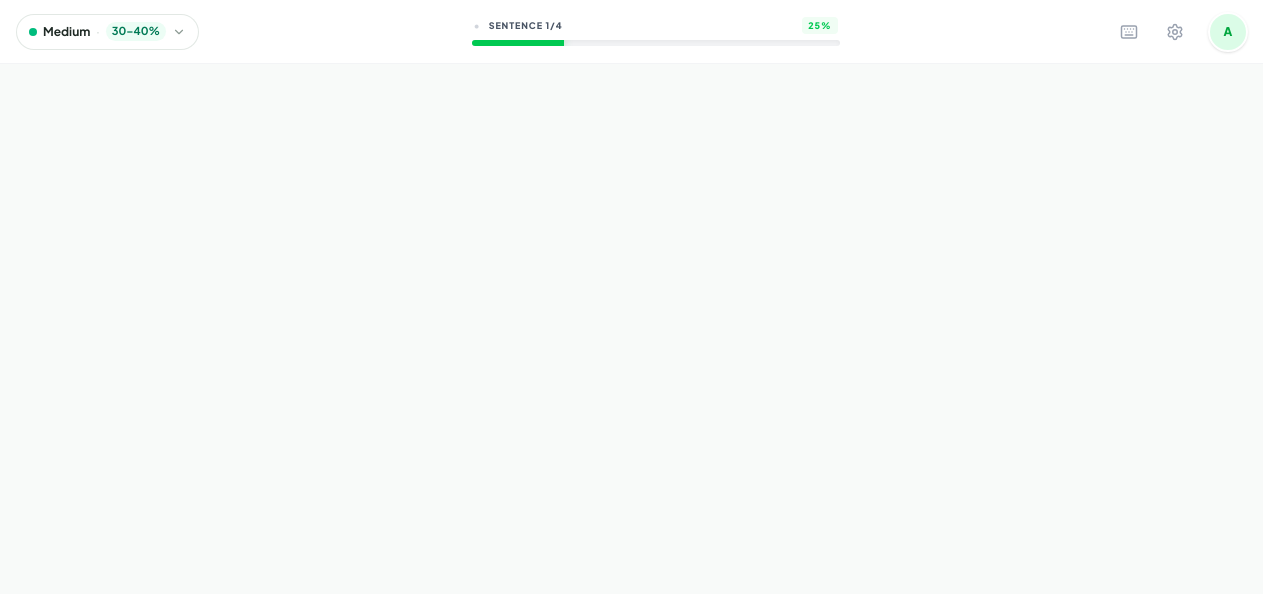
Scenario: PracticeHeader › toggles keyboard shortcuts popover, closes quick settings, displays mode-specific shortcuts, and closes on Escape without bubbling
Click the button named "quick settings".
click(1175, 32)  # box [1158,14,1192,48]
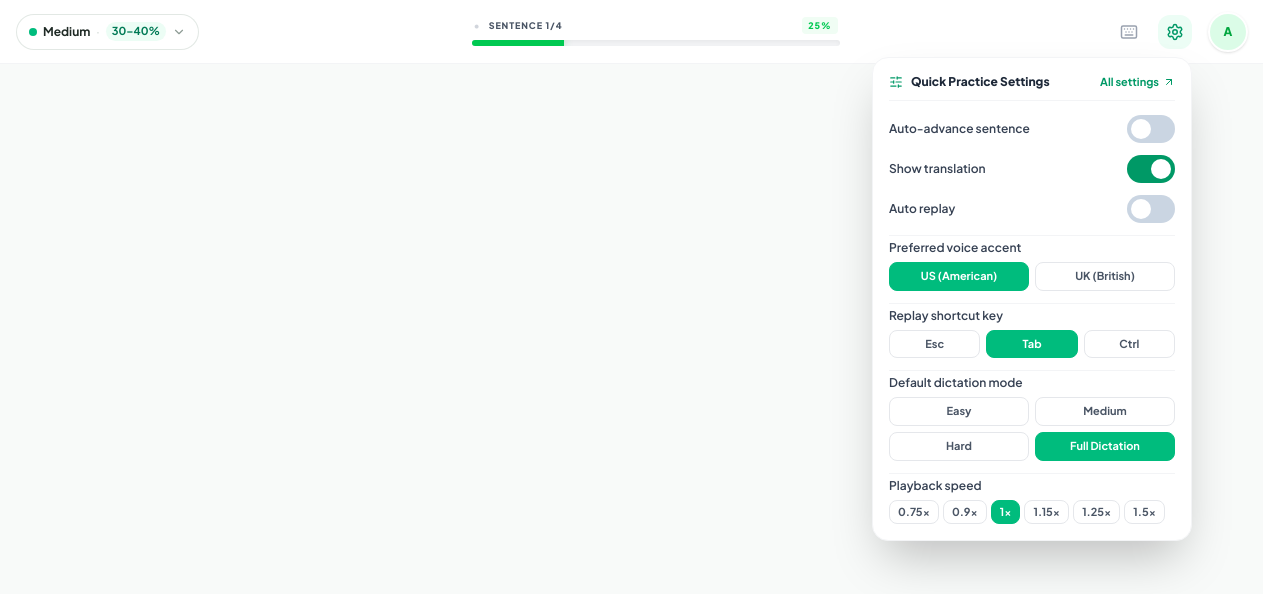
Expected: the button named "quick settings" is expanded, [1158,14,1192,48]
Click the button named "keyboard shortcuts".
click(1129, 32)  # box [1112,14,1146,48]
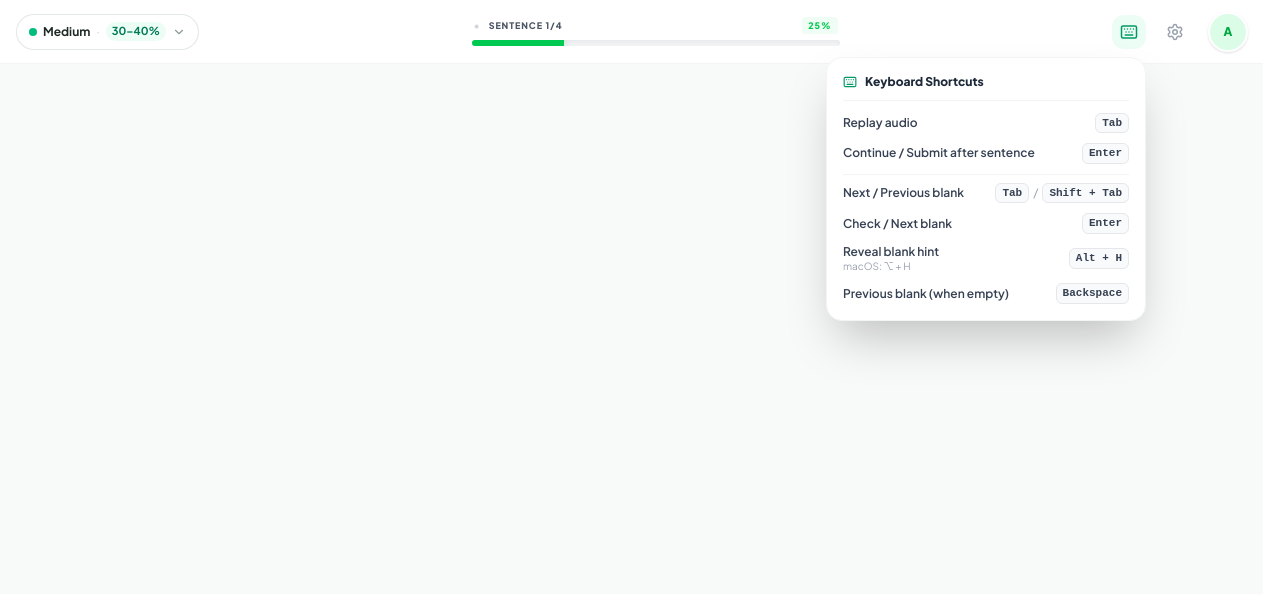
Expected: the button named "quick settings" is collapsed, [1158,14,1192,48]
Expected: the button named "keyboard shortcuts" is expanded, [1112,14,1146,48]
Expected: the text "Replay audio" is shown, [843,115,918,131]
Press Escape
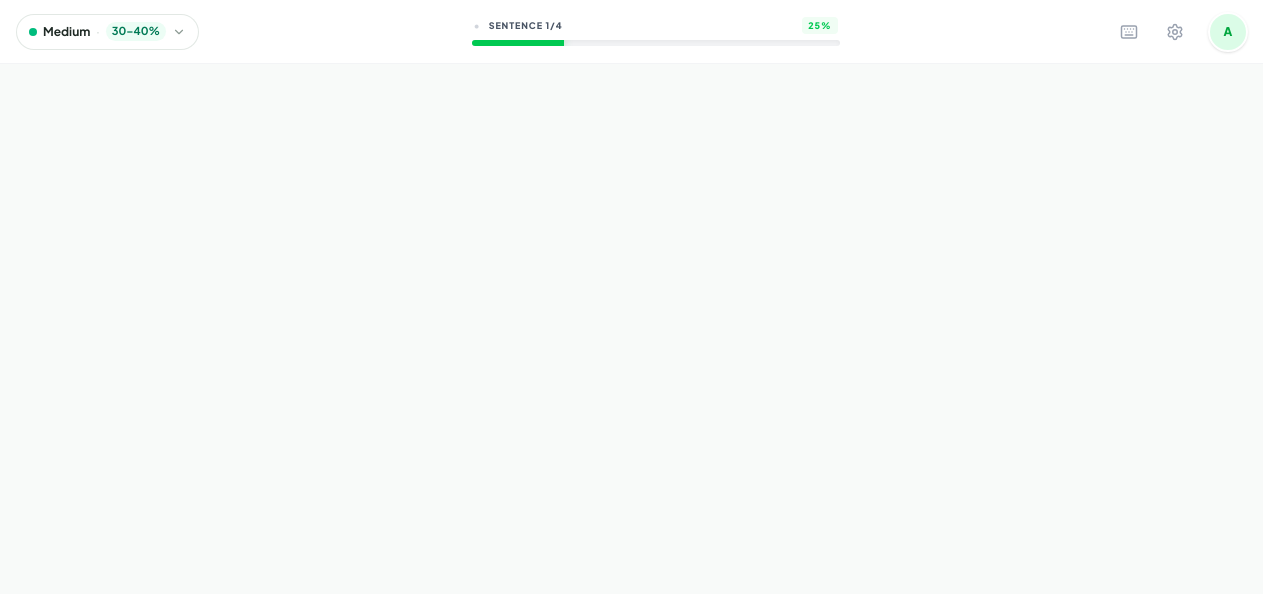
Expected: the button named "keyboard shortcuts" is collapsed, [1112,14,1146,48]
